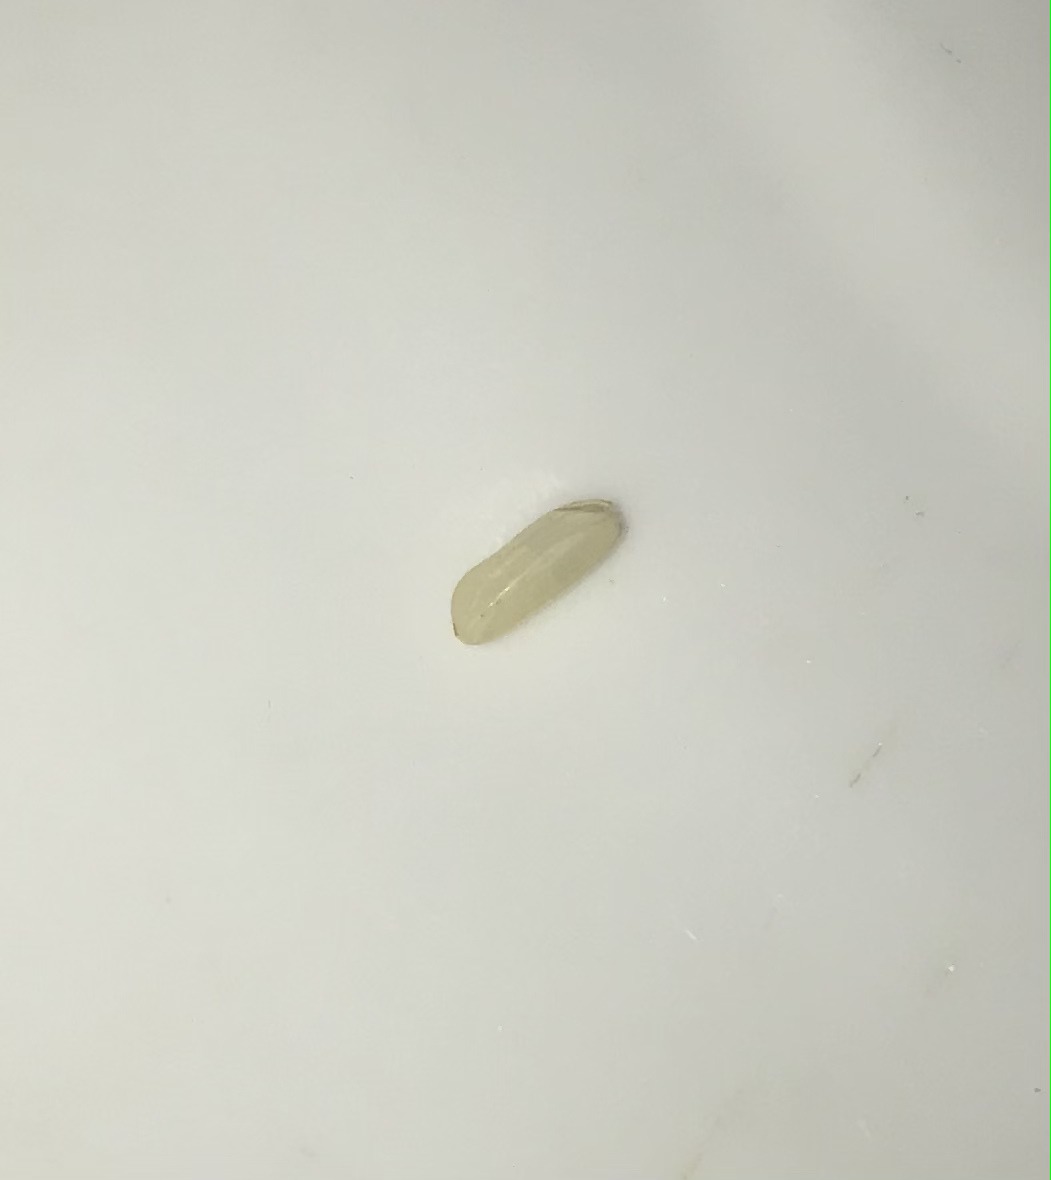Gao Lut Trang: (437, 469, 636, 674)
